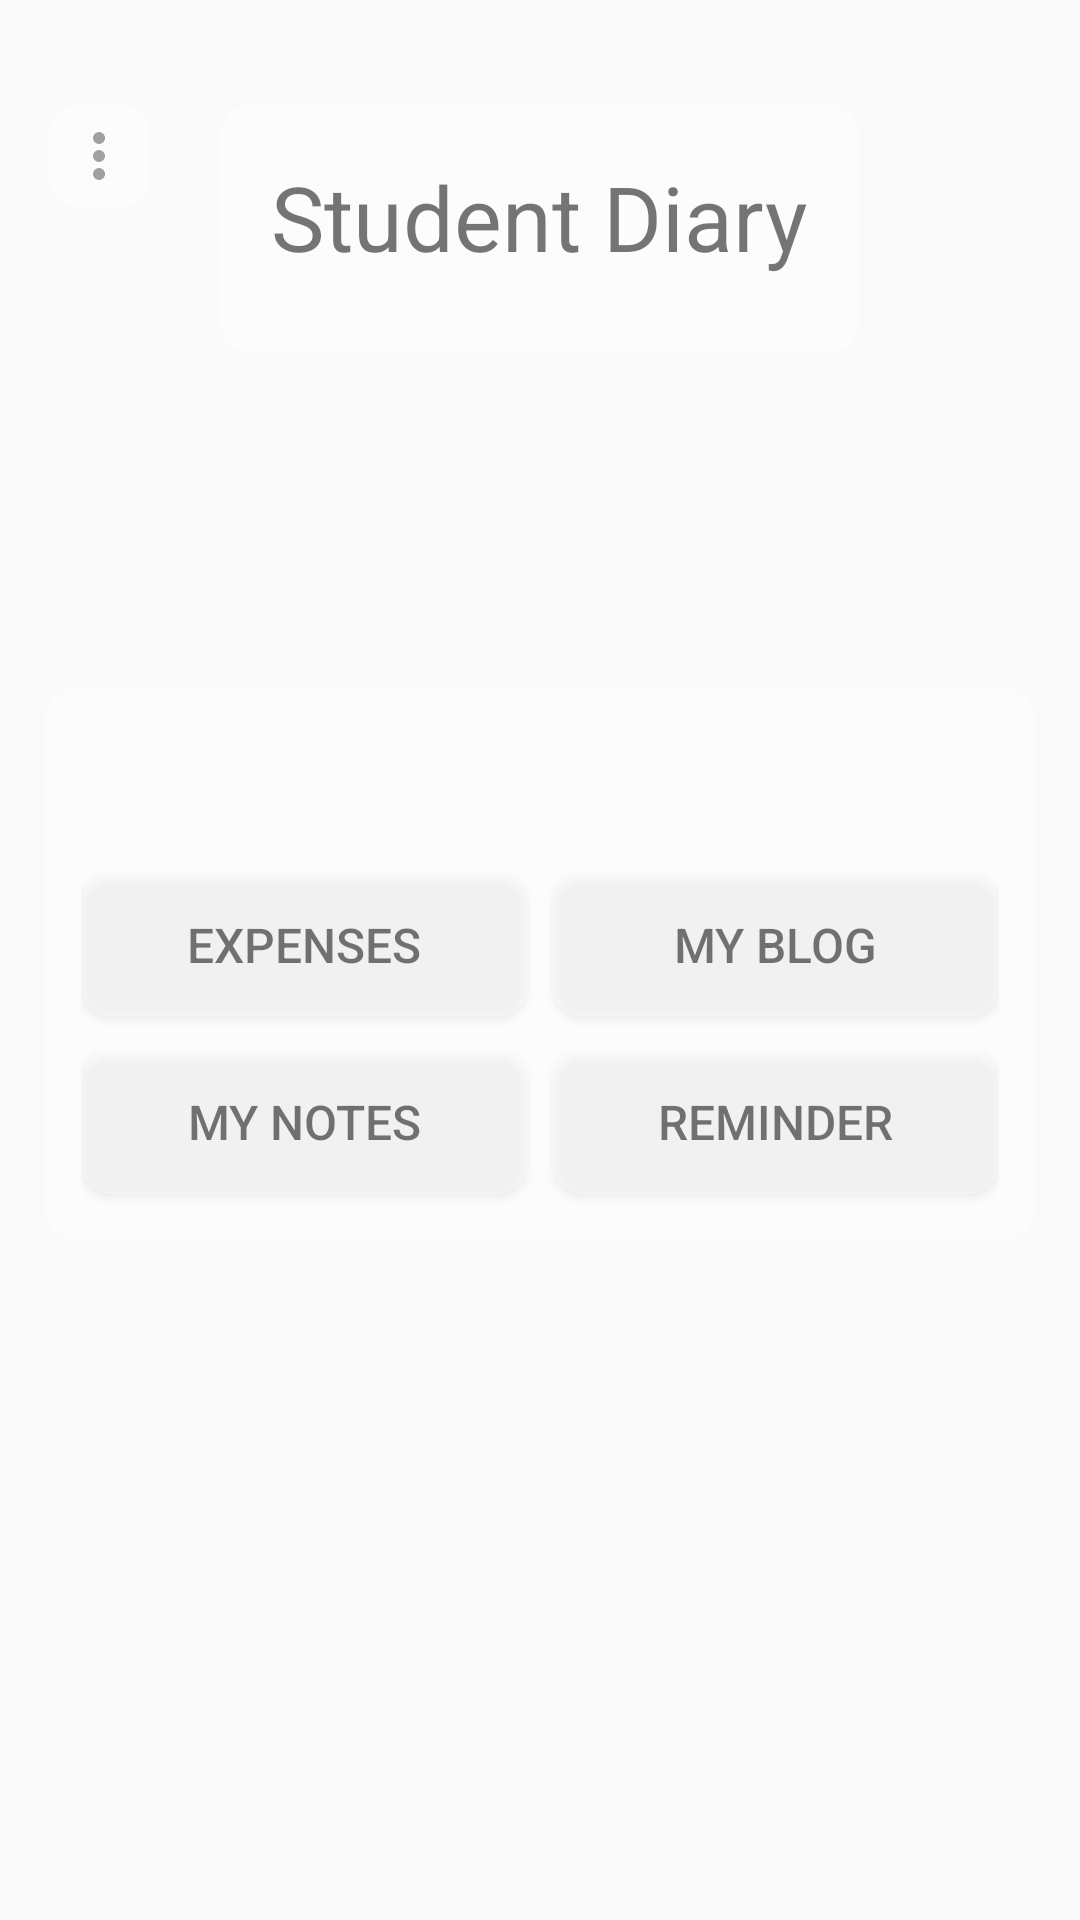

Named icons in this screenshot (1080px×1920px) and their bounding boxes, bbox=[x1, y1, x2, y2]:
more vert: bbox=[93, 132, 105, 180]
